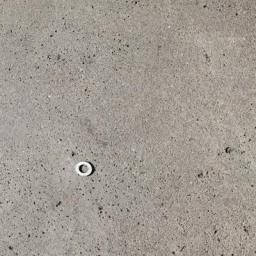FOD: (75, 159, 97, 182)
